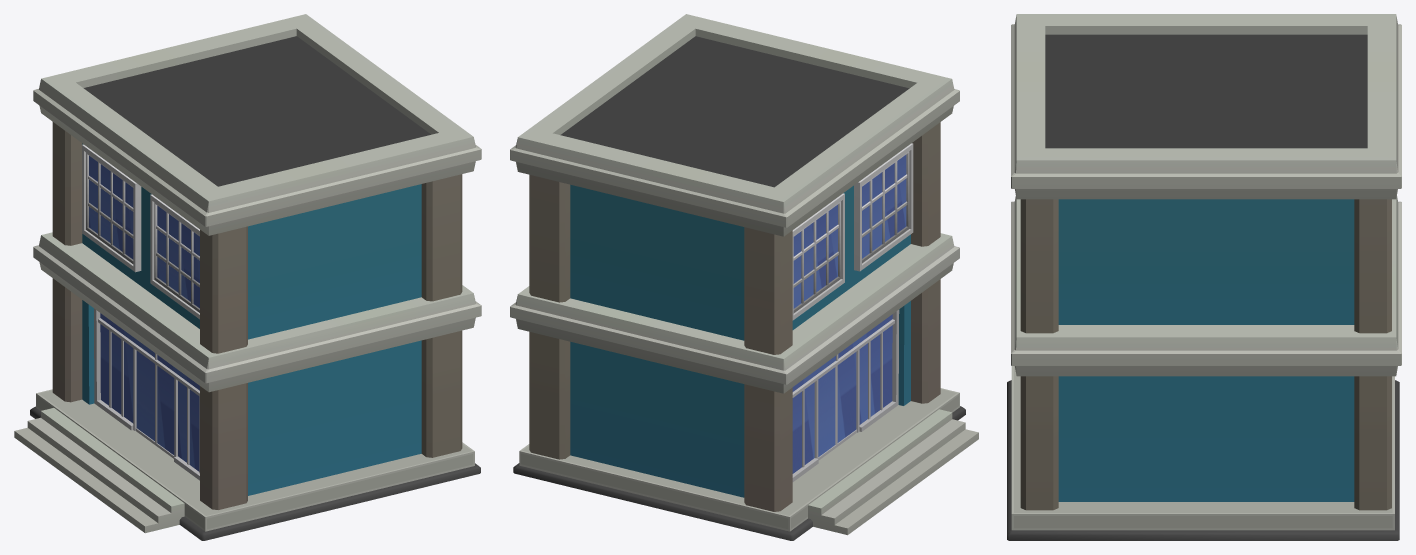
The model's file is Building_9_2_CC.fbx.
The picture shows the model from 3 angles, left to right: view 1: azimuth 30°, elevation 25°; view 2: azimuth 150°, elevation 25°; view 3: azimuth 270°, elevation 25°; orthographic projection. The views are drawn at different scales.
Parts seen in each view (by area): view 1: Building_9_2_CC; view 2: Building_9_2_CC; view 3: Building_9_2_CC.
Part boxes in pixels (x1,y1,x2,y2): Building_9_2_CC: [14, 14, 481, 540]; Building_9_2_CC: [510, 14, 978, 540]; Building_9_2_CC: [1007, 14, 1401, 540].
Bounding box in the file's own units: 947 × 958 × 906.
